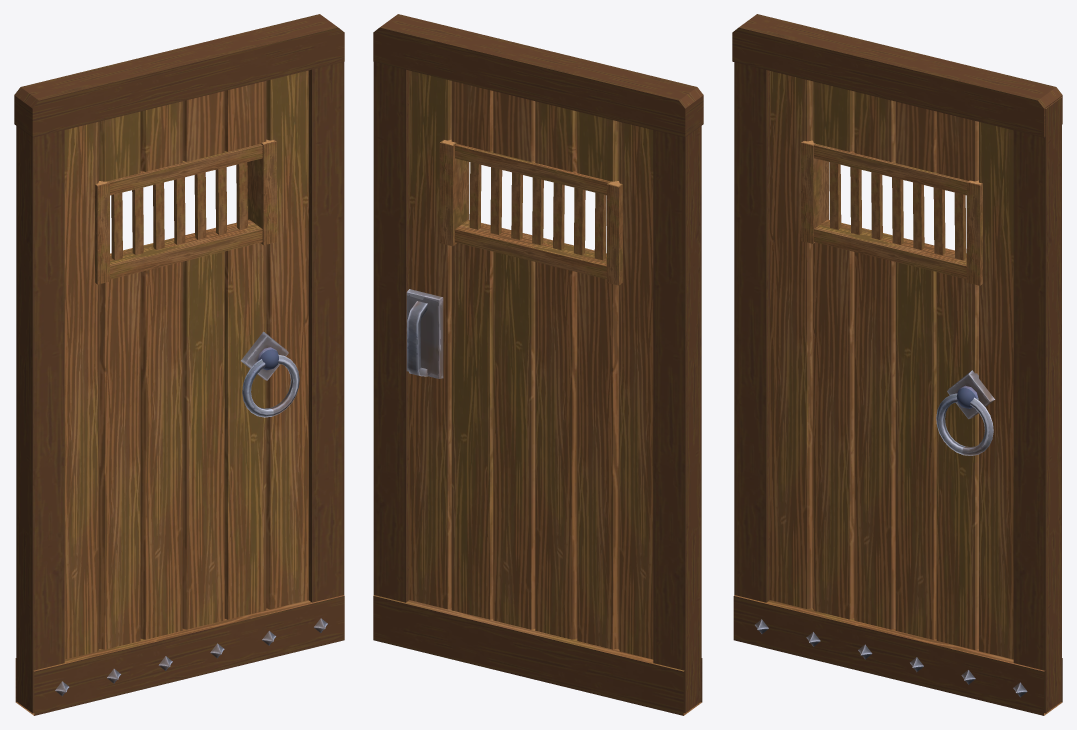
File: Door_8_Flat.gltf
3 views of the same model, side by side, from view 1: azimuth 30°, elevation 25°; view 2: azimuth 150°, elevation 25°; view 3: azimuth 330°, elevation 25° (orthographic).
Visible parts, largest first — view 1: Door_8_Flat; view 2: Door_8_Flat; view 3: Door_8_Flat.
Boxes of the visible parts, box(x1,y1,x2,y2) form: Door_8_Flat: box(14, 14, 344, 715); Door_8_Flat: box(373, 14, 703, 715); Door_8_Flat: box(732, 14, 1062, 715).
Bounding box in the file's own units: 1.12 × 2.1 × 0.1995.
2 materials, 2 textured.
